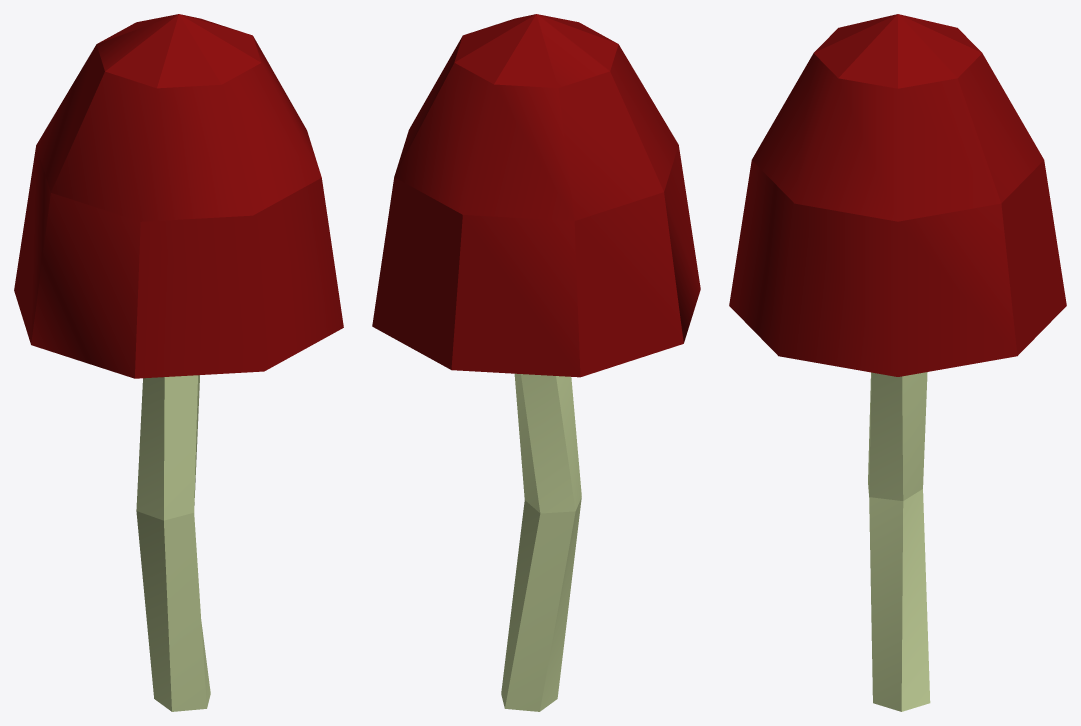
File: Mushroom_f_a_02.fbx
3 views of the same model, side by side, from view 1: azimuth 30°, elevation 25°; view 2: azimuth 150°, elevation 25°; view 3: azimuth 270°, elevation 25° (orthographic).
Parts seen in each view (by area): view 1: Mushroom_f_a_02_LOD0; view 2: Mushroom_f_a_02_LOD0; view 3: Mushroom_f_a_02_LOD0.
Part boxes in pixels (x1,y1,x2,y2): Mushroom_f_a_02_LOD0: (14, 14, 343, 711); Mushroom_f_a_02_LOD0: (372, 14, 700, 711); Mushroom_f_a_02_LOD0: (729, 14, 1066, 711).
Size of what is drawn, in the model's own units: 6.91 by 15.38 by 6.91.
